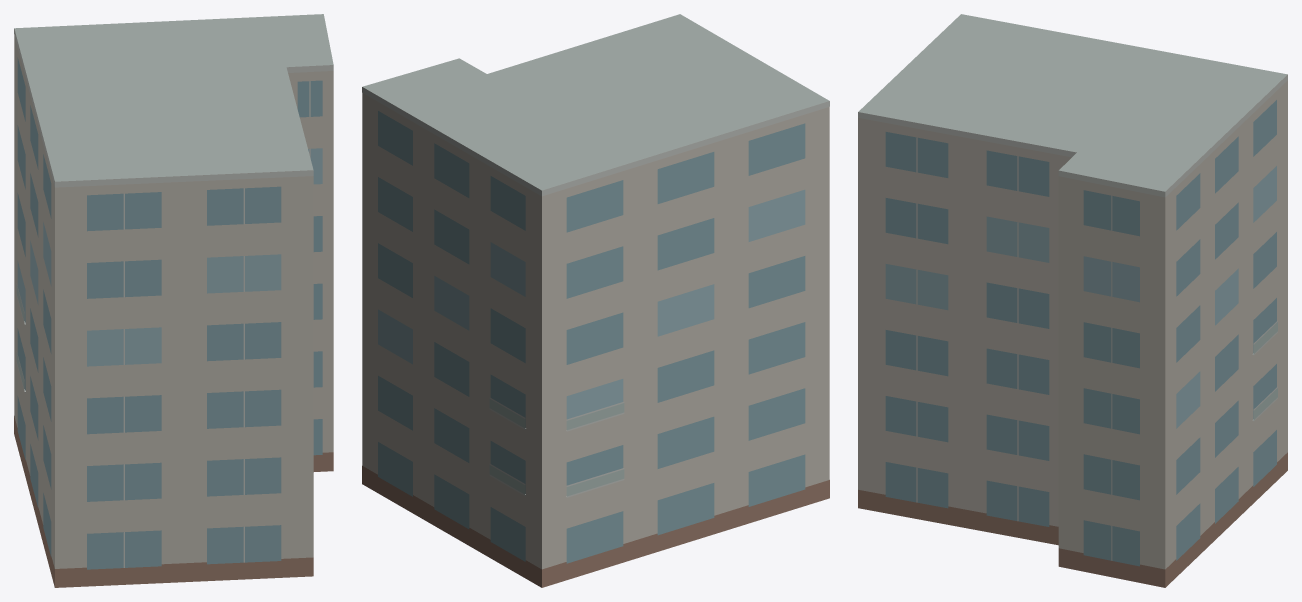
The model's file is survey-upis-32524724.glb.
The picture shows the model from 3 angles, left to right: view 1: azimuth 30°, elevation 25°; view 2: azimuth 150°, elevation 25°; view 3: azimuth 270°, elevation 25°; orthographic projection. The views are drawn at different scales.
Parts seen in each view (by area): view 1: survey-upis-32524724.tmp; view 2: survey-upis-32524724.tmp; view 3: survey-upis-32524724.tmp.
Part boxes in pixels (box(x1,y1,x2,y2)): survey-upis-32524724.tmp: box(14, 14, 333, 587); survey-upis-32524724.tmp: box(362, 14, 829, 587); survey-upis-32524724.tmp: box(858, 14, 1287, 587).
Bounding box in the file's own units: 16.08 × 16.7 × 16.43.
